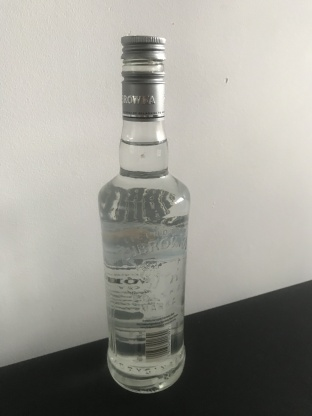nakretka: (120, 33, 166, 121)
